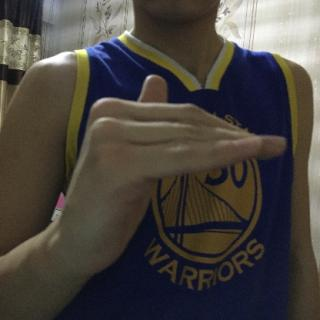KHAA: (40, 68, 297, 286)
